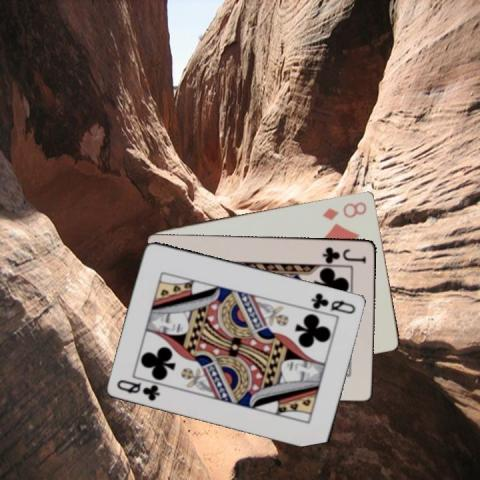8d: (320, 198, 369, 221)
Jc: (320, 243, 367, 264)
Qc: (309, 290, 357, 316), (114, 376, 161, 402)
